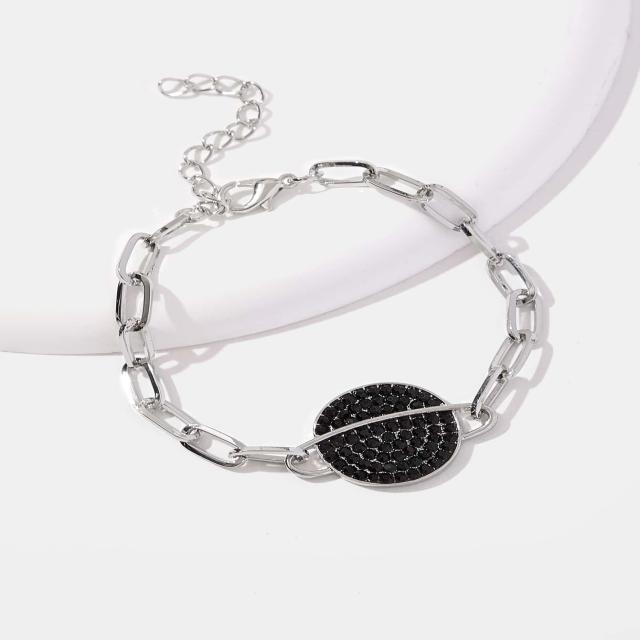bracelet: (64, 46, 590, 534)
